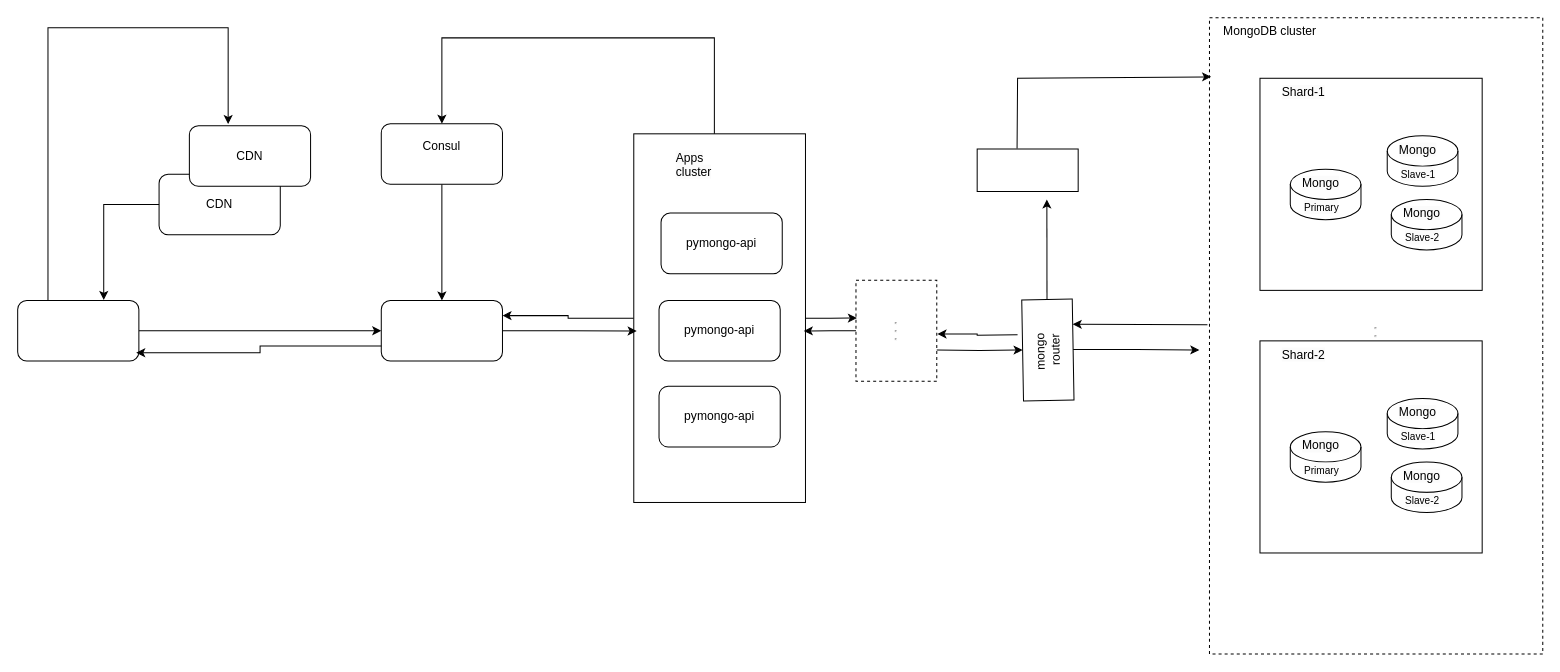
This 1560x672 diagram has some shape labels left out. The centre of each missing label's shape, as x and y in pixels:
"API gateway" belongs at pixel 441 330.
"client" belongs at pixel 78 330.
"config srv" belongs at pixel 1027 169.
"Redis cluster" belongs at pixel 896 330.
